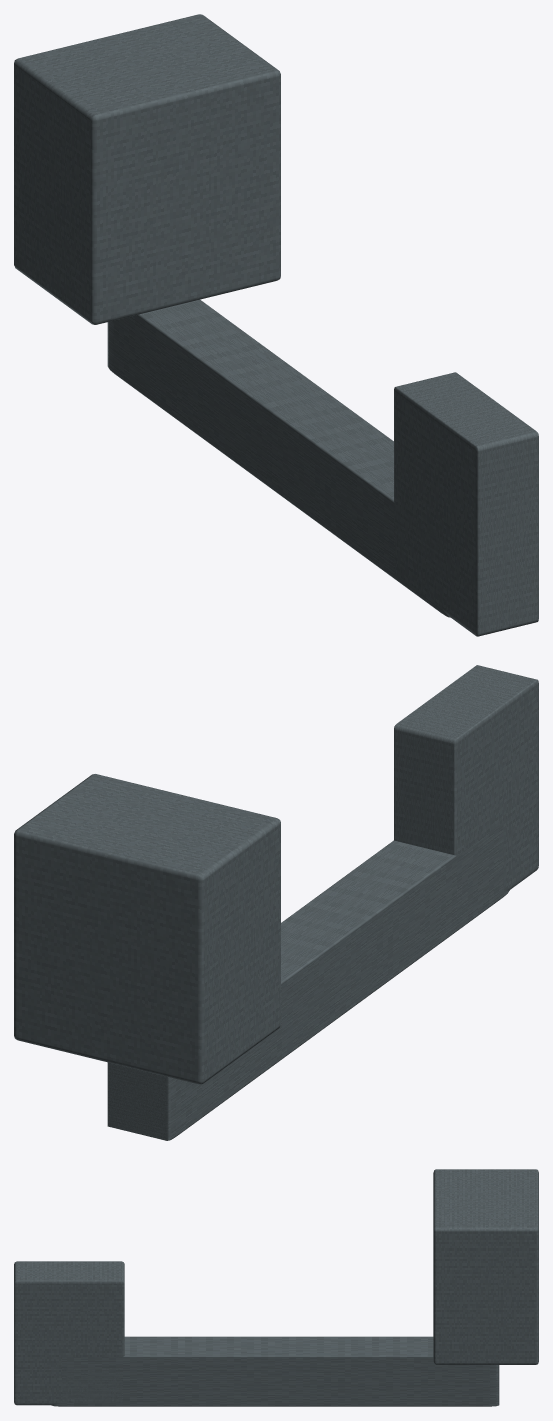
File: peg-hook.glb
3 views of the same model, one above another, from view 1: azimuth 30°, elevation 25°; view 2: azimuth 150°, elevation 25°; view 3: azimuth 270°, elevation 25° (orthographic). The views are drawn at different scales.
Visible parts, largest first — view 1: foot, arm, lip; view 2: foot, arm, lip; view 3: arm, foot, lip.
Boxes of the visible parts, x1=… form: foot: x1=14, y1=14, x2=280, y2=324; arm: x1=107, y1=299, x2=450, y2=617; lip: x1=394, y1=372, x2=538, y2=636; foot: x1=14, y1=774, x2=280, y2=1084; arm: x1=107, y1=822, x2=509, y2=1140; lip: x1=394, y1=665, x2=538, y2=917; arm: x1=51, y1=1336, x2=499, y2=1406; foot: x1=433, y1=1169, x2=538, y2=1364; lip: x1=14, y1=1261, x2=124, y2=1405.
Size of the model in its own units: 0.0245 by 0.0374 by 0.0895.
1 material, 1 textured.
